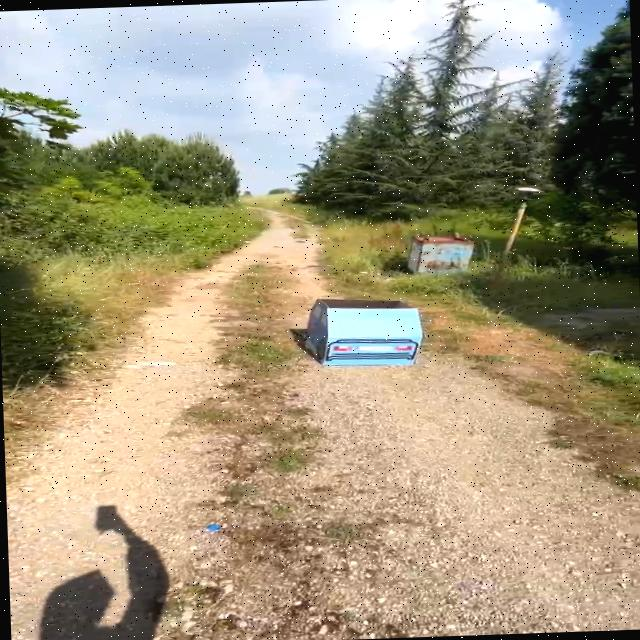blue_car: (271, 291, 451, 379)
